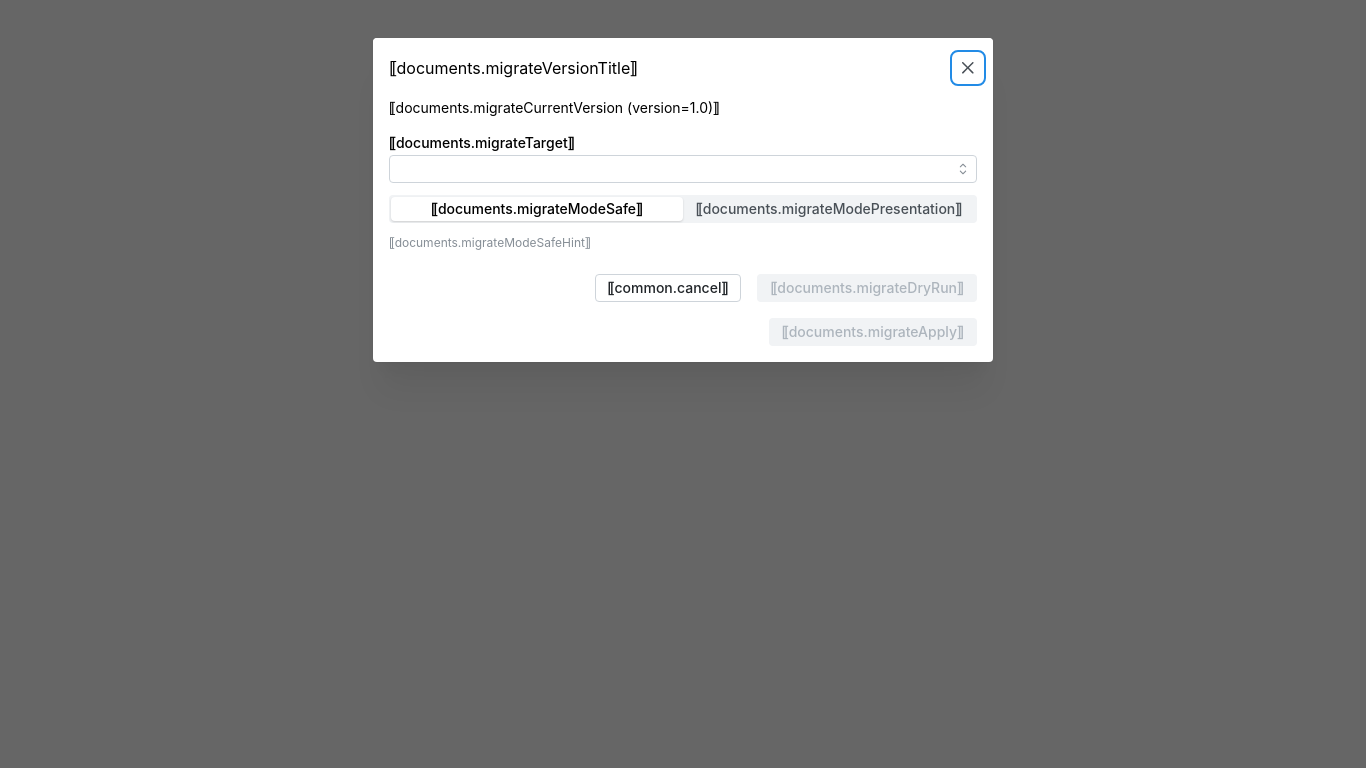
Test: VersionMigrationDialog: ручні значення замість формул, що не переїдуть (D-461) › lostFormulaOverrides > 0 — рядок-попередження з числом і пункт OverrideLost у переліку; застосувати можна
Click the field labelled "⟦documents.migrateTarget⟧".
click(683, 170)  # box [389, 156, 977, 184]
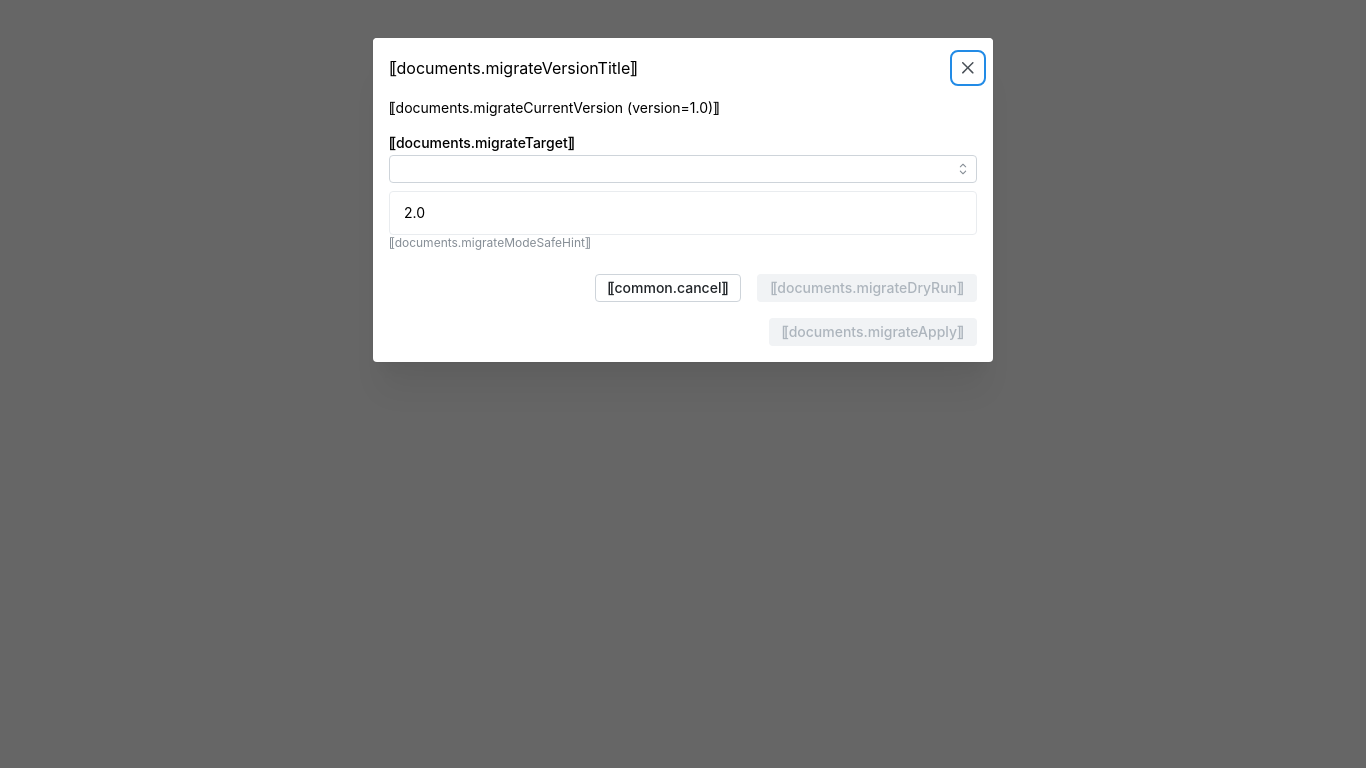
Click the option "2.0".
click(415, 213)  # box [404, 204, 425, 222]
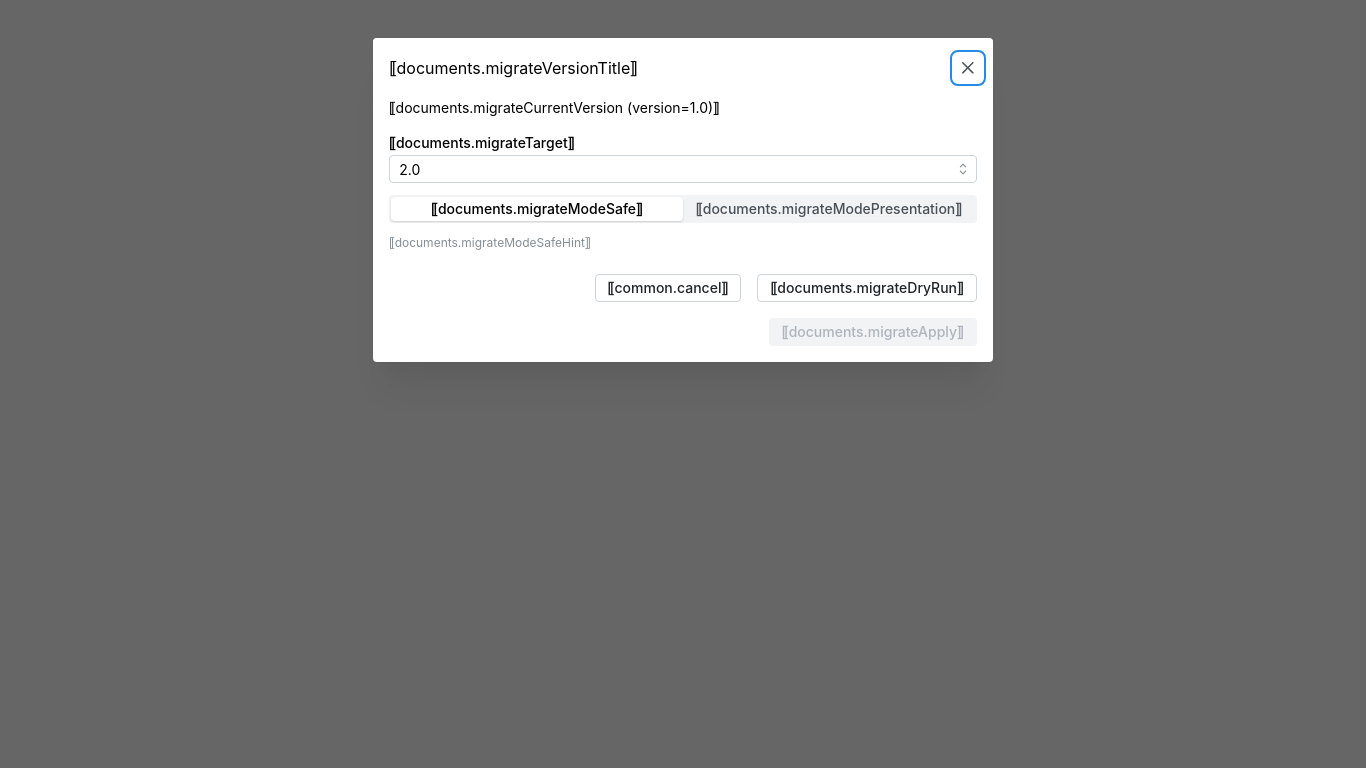
Click the button with test id "migrate-dry-run".
click(867, 288)  # box [757, 274, 977, 302]
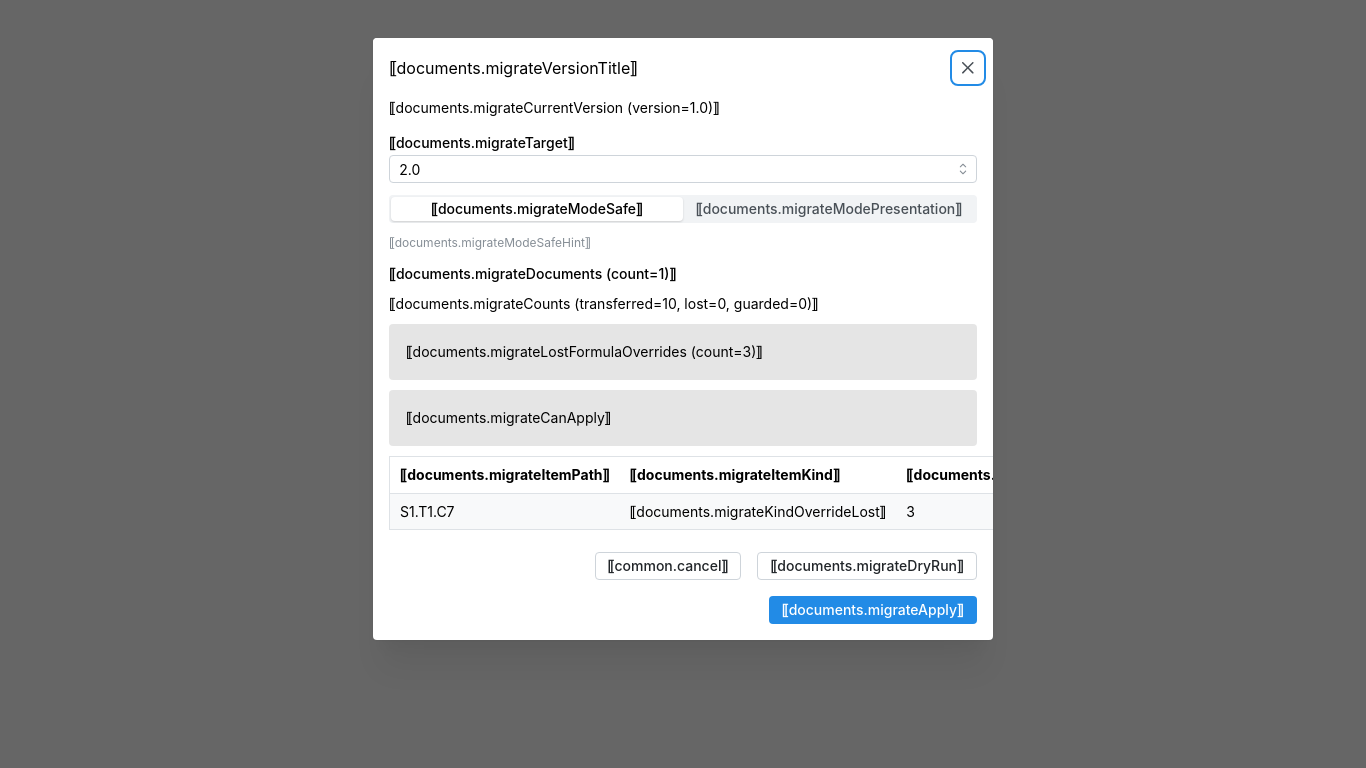
Result: the text "⟦documents.migrateCanApply⟧" is shown at [406, 410, 611, 427]
Result: the message "⟦documents.migrateLostFormulaOverrides (count=3)⟧" is shown at [389, 325, 977, 381]
Result: the text "⟦documents.migrateKindOverrideLost⟧" is shown at [620, 493, 896, 530]
